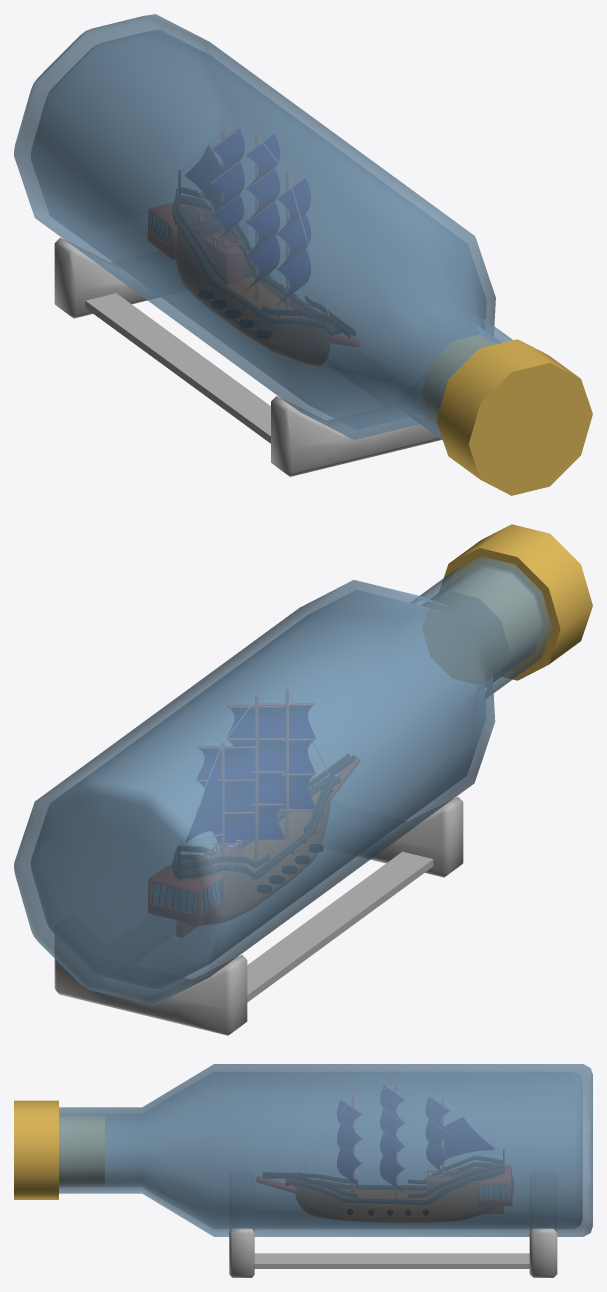
The model's file is Bateau_bouteille01.fbx.
The picture shows the model from 3 angles, top to bottom: view 1: azimuth 30°, elevation 25°; view 2: azimuth 150°, elevation 25°; view 3: azimuth 270°, elevation 25°; orthographic projection. The views are drawn at different scales.
Visible parts, largest first — view 1: bateau_bouteille01; view 2: bateau_bouteille01; view 3: bateau_bouteille01.
Boxes of the visible parts, x1,y1,x2,y2 form: bateau_bouteille01: (14, 14, 592, 495); bateau_bouteille01: (14, 524, 592, 1035); bateau_bouteille01: (14, 1064, 592, 1277).
Bounding box in the file's own units: 5.93 × 6.53 × 19.71.
